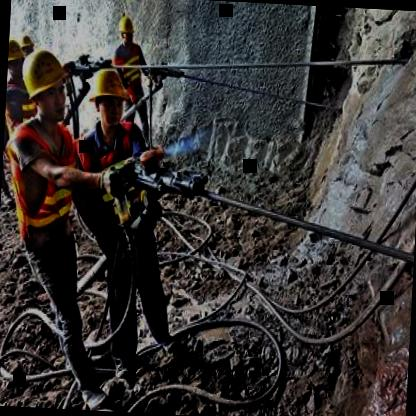helmet: (17, 41, 75, 126), (82, 60, 134, 134), (7, 34, 29, 78), (113, 13, 136, 48)
